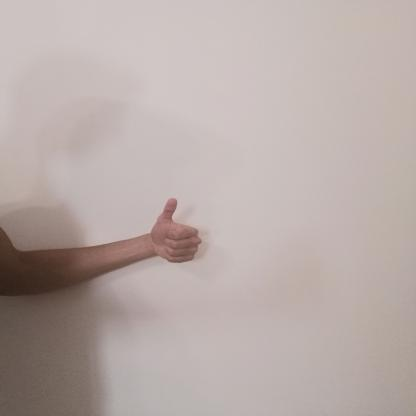ALIF: (142, 190, 207, 272)
